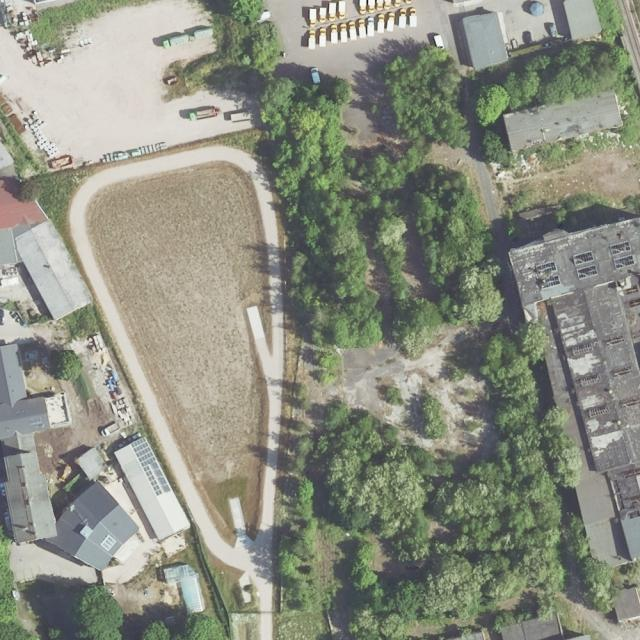PV: (130, 438, 162, 498)
ST: (30, 416, 43, 424)
